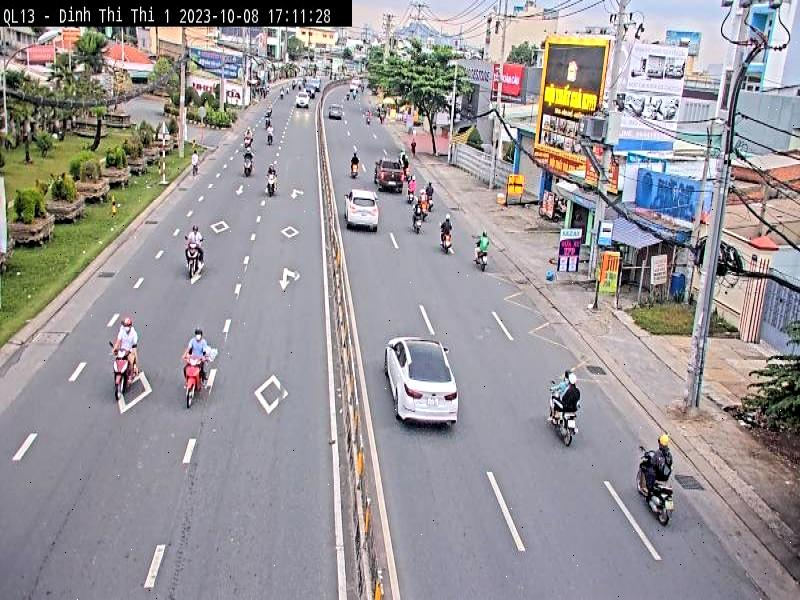car: (383, 333, 462, 428), (344, 188, 380, 234), (374, 157, 406, 195)
motorcycle: (639, 450, 673, 530), (549, 380, 578, 447), (107, 342, 131, 401), (180, 351, 203, 408), (183, 238, 203, 277)
